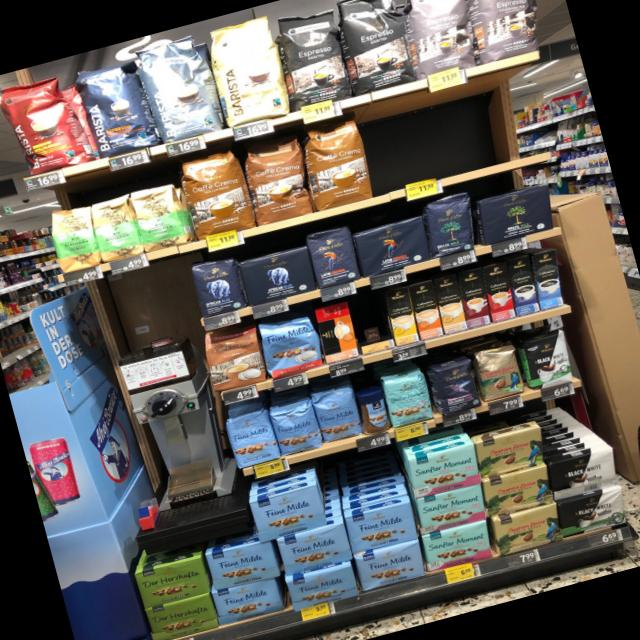AB Bohne: (188, 253, 247, 319)
AB Gemahlen: (236, 243, 318, 307)
Athiopien Bohne: (44, 201, 102, 276)
Athiopien Gemahlen: (128, 180, 192, 256), (86, 192, 145, 263)
BM Bohne: (420, 188, 482, 258)
BM Gemahlen: (472, 180, 558, 247)
BW Bohne: (516, 327, 578, 391)
BW Gemahlen: (546, 444, 624, 501), (556, 486, 630, 540)
Barista CB: (204, 14, 294, 128)
Barista CC: (134, 31, 226, 146)
Barista Espresso: (74, 52, 160, 159)
Barista Kolumbien: (0, 67, 93, 180)
C Fino Bohne: (429, 356, 484, 418)
CC Vollmundig: (200, 320, 268, 394)
CC Vollmundig 36 Pads: (176, 144, 256, 242), (298, 115, 378, 211), (236, 132, 316, 226)
Colombia BB Bohne: (472, 342, 526, 403)
Colombia BB Gemahlen: (472, 422, 550, 480), (490, 502, 566, 558), (482, 464, 556, 518)
Empty Shelf: (357, 67, 551, 197), (348, 292, 394, 347)
Espresso Kraftig: (272, 1, 354, 110), (333, 0, 419, 95)
Espresso M Art: (398, 0, 483, 78), (461, 0, 556, 62)
FM 36 Pads: (256, 308, 325, 380)
FM Bohne: (222, 407, 281, 468), (268, 396, 324, 458), (312, 382, 364, 444)
FM Gemahlen: (248, 482, 328, 542), (205, 534, 282, 592), (276, 520, 352, 577), (344, 499, 420, 555), (284, 560, 359, 613), (354, 538, 426, 592), (212, 573, 284, 625)
FM Instant: (354, 384, 394, 436)
Herzhatfe Mundig: (131, 553, 212, 611), (144, 590, 219, 640)
LG Bohne: (303, 220, 363, 290)
LG Gemahlen: (351, 214, 433, 278)
SM Bohne: (382, 370, 435, 428)
SM Gemahlen: (406, 439, 484, 498), (420, 518, 494, 572), (414, 482, 488, 534)
Simo CCMild bigpack: (382, 284, 422, 346)
Simo CCVollmundig bigpack: (408, 278, 446, 340)
Simo Decaff: (431, 272, 468, 334)
Simo Es Brazil: (482, 261, 516, 322)
Simo Es Caramel: (457, 267, 491, 328)
Simo Es Kraft: (507, 254, 540, 316)
Simo Es Vanilla: (533, 248, 564, 310)
